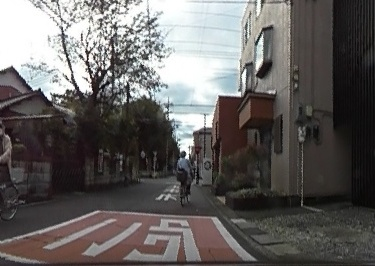person: (177, 150, 191, 191)
